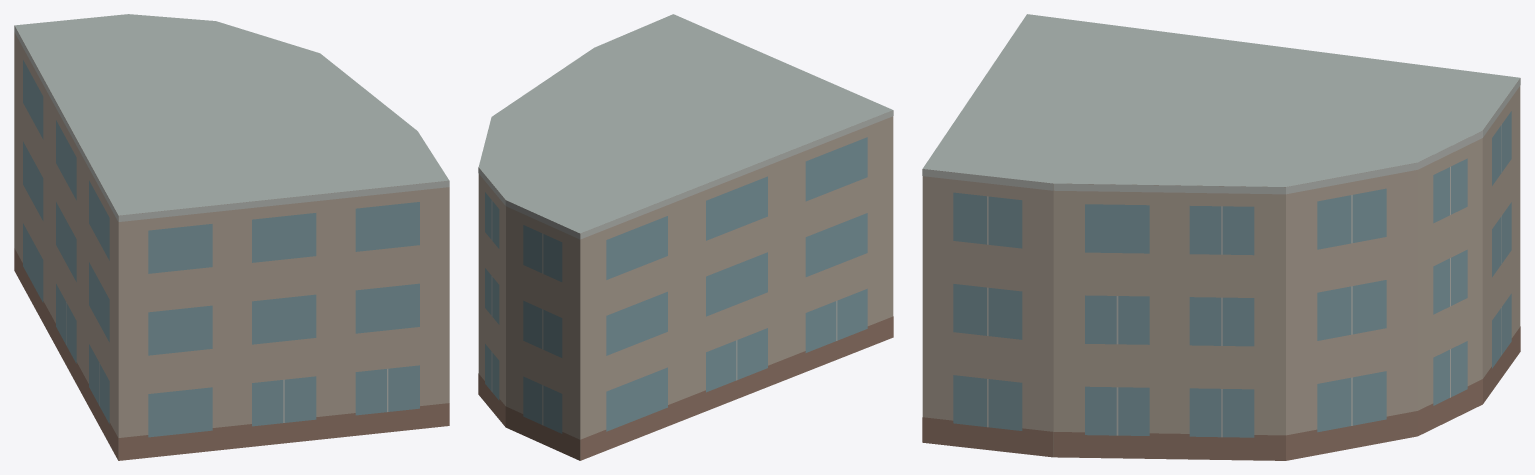
The model's file is survey-upis-32933585.glb.
3 renders of one model, left to right at view 1: azimuth 30°, elevation 25°; view 2: azimuth 150°, elevation 25°; view 3: azimuth 270°, elevation 25°, orthographic. The views are drawn at different scales.
Visible parts, largest first — view 1: survey-upis-32933585.tmp; view 2: survey-upis-32933585.tmp; view 3: survey-upis-32933585.tmp.
Boxes of the visible parts, x1,y1,x2,y2 form: survey-upis-32933585.tmp: [14, 14, 449, 460]; survey-upis-32933585.tmp: [478, 14, 893, 460]; survey-upis-32933585.tmp: [922, 14, 1520, 460].
Bounding box in the file's own units: 12.41 × 9.15 × 18.12.
